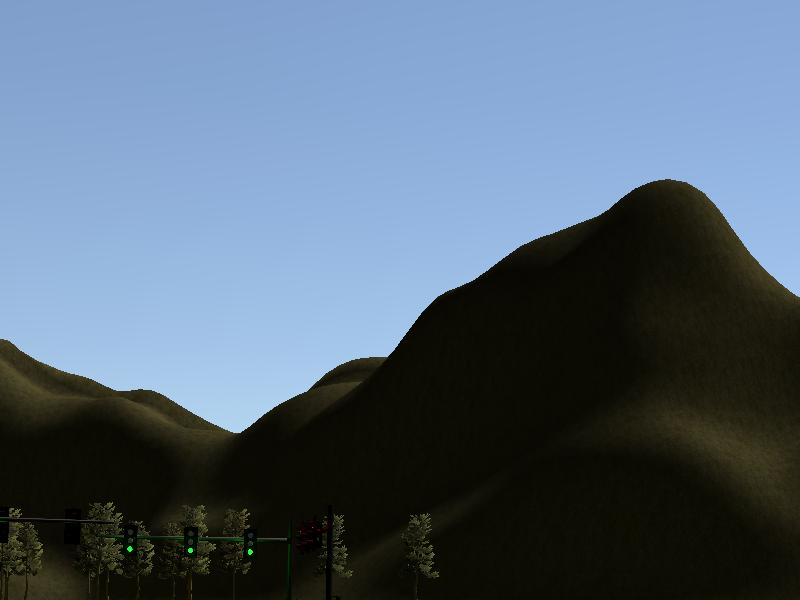Green: (124, 522, 139, 556), (244, 529, 258, 562), (183, 526, 197, 558)
